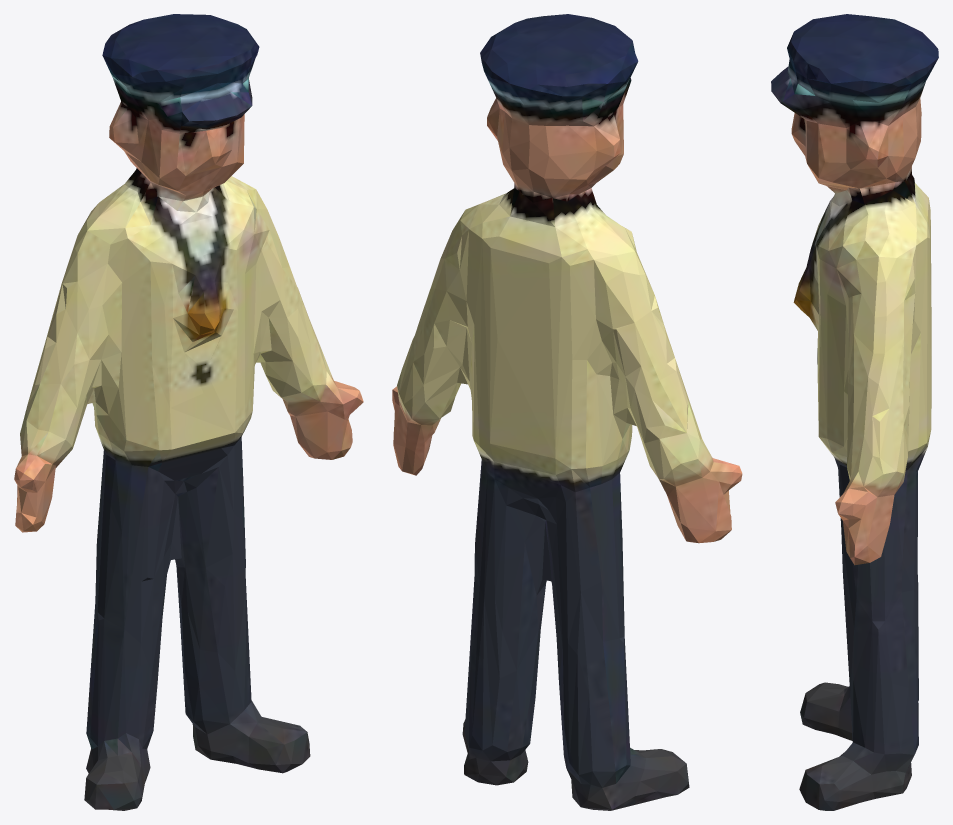
File: habitant-loin.glb
3 renders of one model, left to right at view 1: azimuth 30°, elevation 25°; view 2: azimuth 150°, elevation 25°; view 3: azimuth 270°, elevation 25°, orthographic. The views are drawn at different scales.
Visible parts, largest first — view 1: habitant; view 2: habitant; view 3: habitant.
Boxes of the visible parts, x1,y1,x2,y2 form: habitant: (14,14,363,810); habitant: (392,14,742,810); habitant: (771,14,938,810).
Size of the model in its own units: 0.4908 by 1.01 by 0.2113.
1 material, 1 textured.
